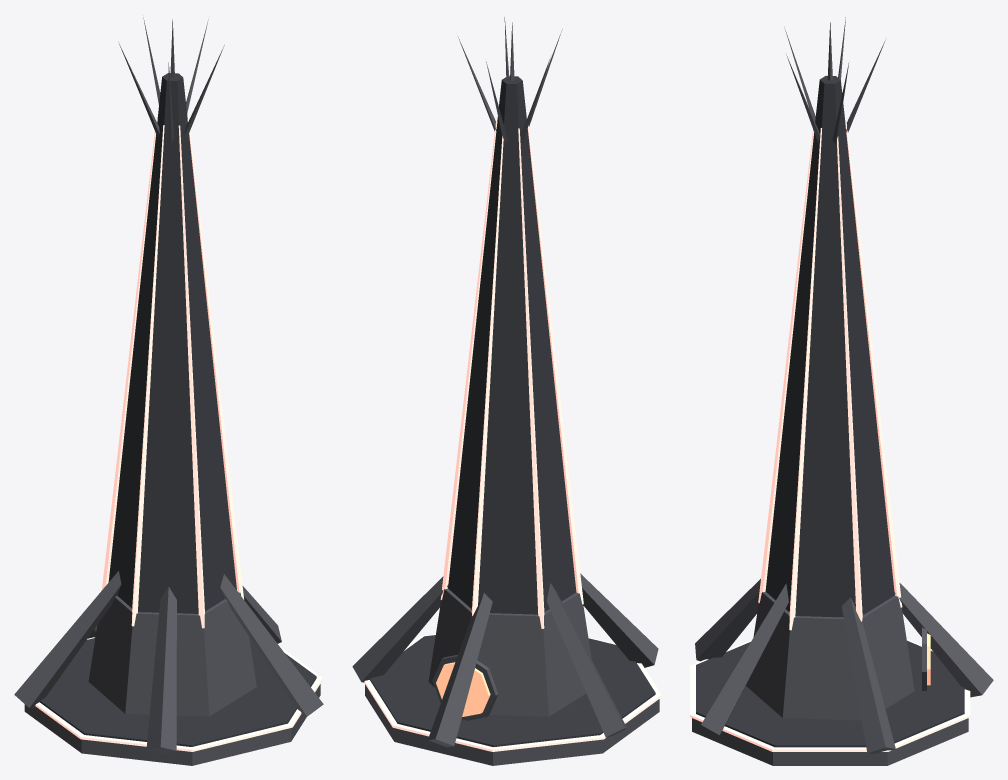
The model's file is zone_high_1.glb.
The picture shows the model from 3 angles, left to right: view 1: azimuth 30°, elevation 25°; view 2: azimuth 150°, elevation 25°; view 3: azimuth 270°, elevation 25°; orthographic projection.
Visible parts, largest first — view 1: zone_high_1; view 2: zone_high_1; view 3: zone_high_1.
Part boxes in pixels (left/top/right/bottom): zone_high_1: left=14, top=17, right=323, bottom=765; zone_high_1: left=352, top=17, right=661, bottom=765; zone_high_1: left=690, top=17, right=993, bottom=765.
Size of the model in its own units: 30.35 by 74.15 by 29.63.
